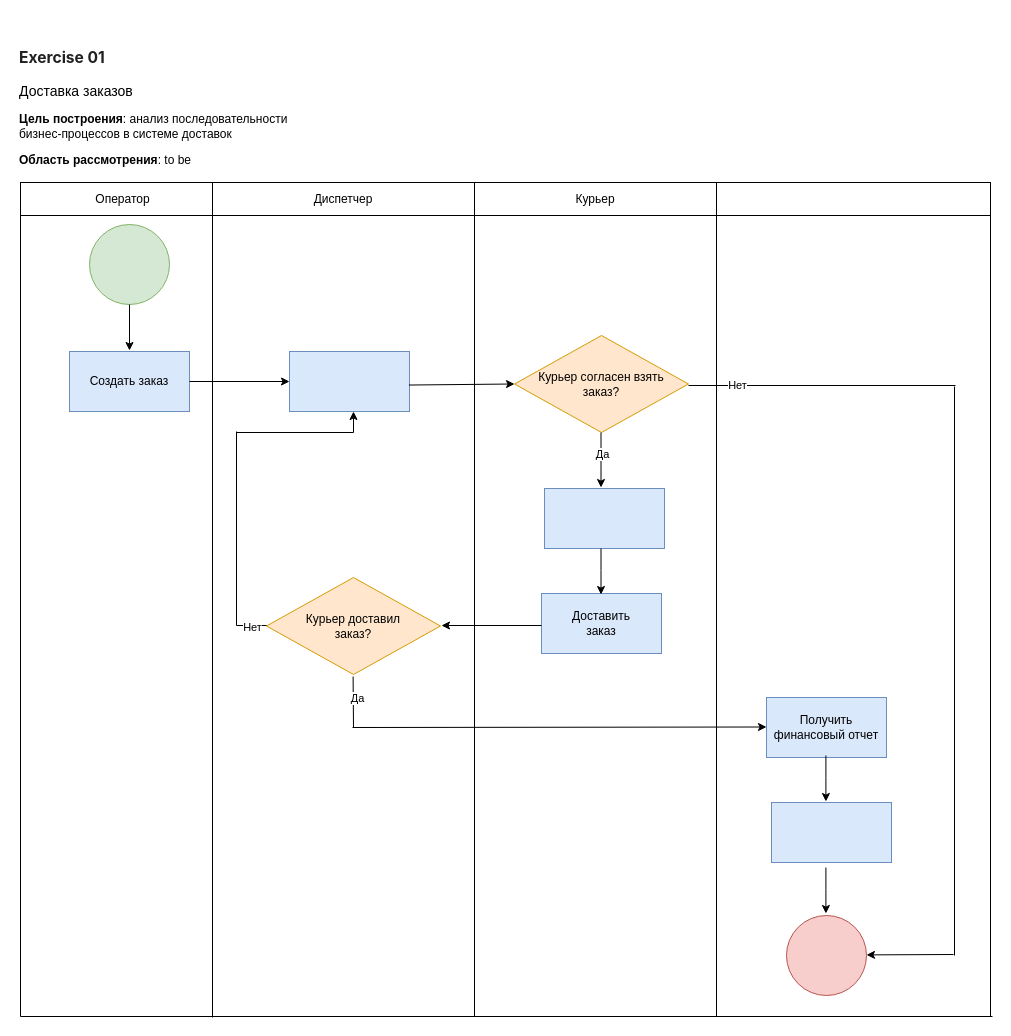
Some shapes in this 1011 by 1036 pixel diagram are drawn without their labels. Here are the shapes that lost their labels. From the top down, the centre of each, then its label:
[853,199]: Бухгалтер (Внешняя система)
[349,381]: Назначить курьера для выполнения заказа
[604,518]: Забронировать заказ
[831,832]: Подтвердить выплату
